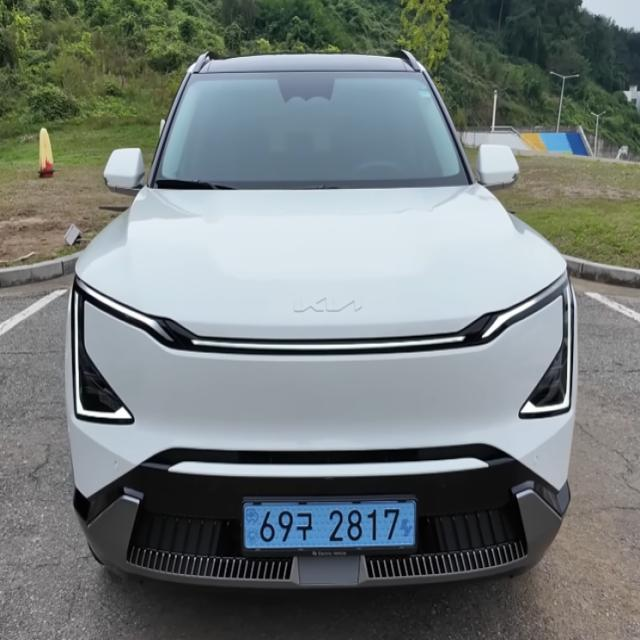car: (216, 491, 437, 563)
carev: (238, 498, 261, 555), (398, 498, 419, 551)
